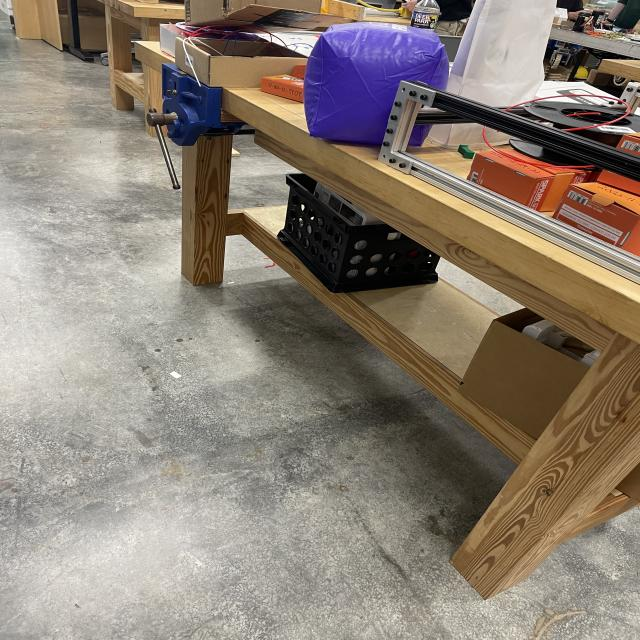frc_cube: (304, 20, 450, 149)
